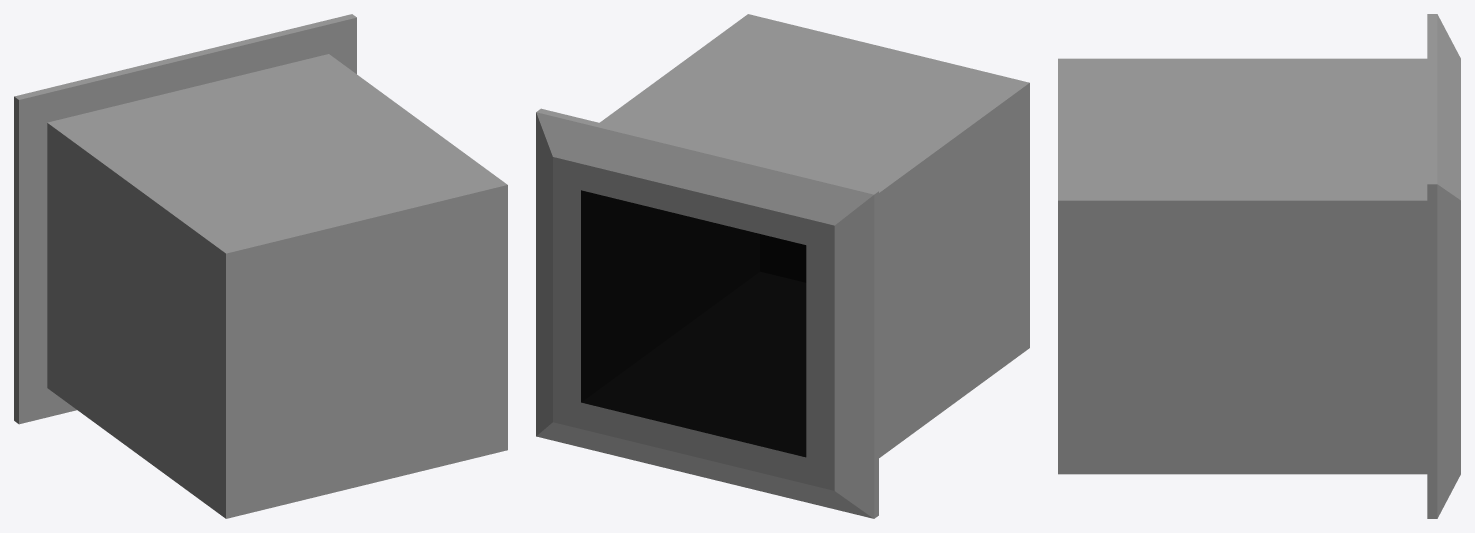
The model's file is open_vent.gltf.
3 views of the same model, side by side, from view 1: azimuth 30°, elevation 25°; view 2: azimuth 150°, elevation 25°; view 3: azimuth 270°, elevation 25° (orthographic). The views are drawn at different scales.
Visible parts, largest first — view 1: cuboid; view 2: cuboid; view 3: cuboid.
Boxes of the visible parts, x1,y1,x2,y2 form: cuboid: (14,14,507,518); cuboid: (536,14,1029,518); cuboid: (1058,14,1460,518).
Size of the model in its own units: 0.75 by 0.6875 by 0.75.
1 material, 1 textured.
